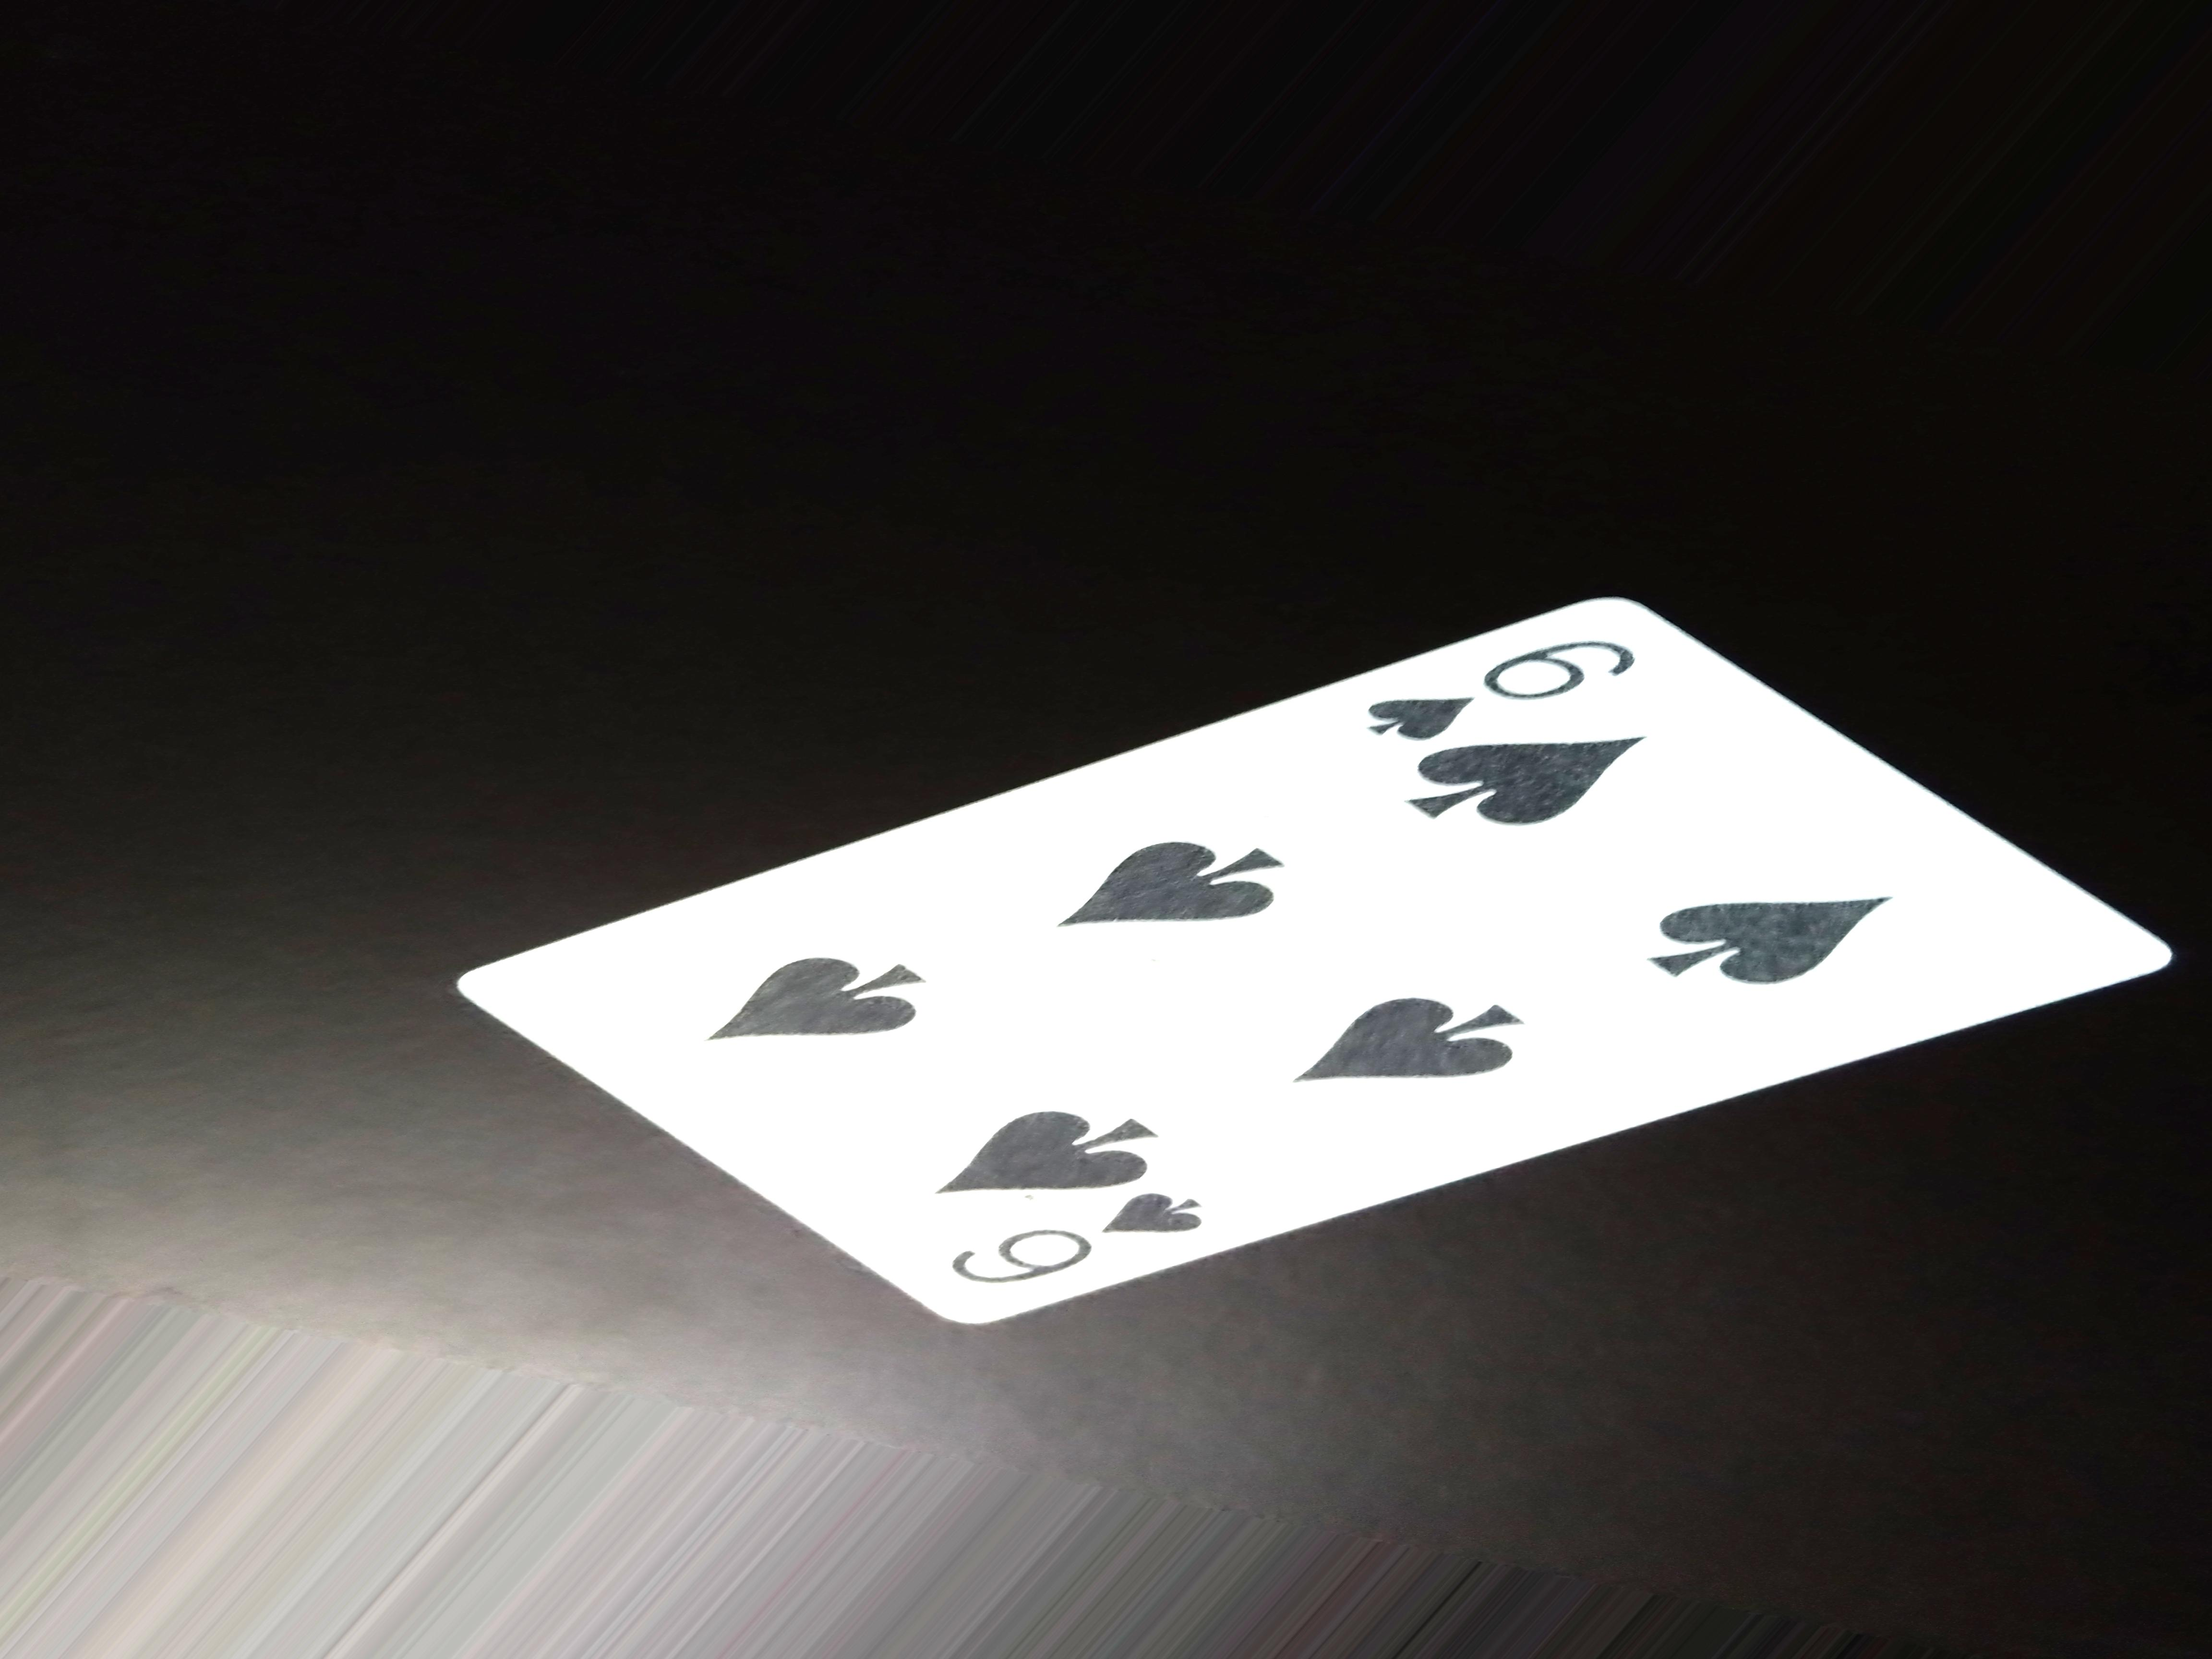6S: (906, 1194, 1197, 1279)
